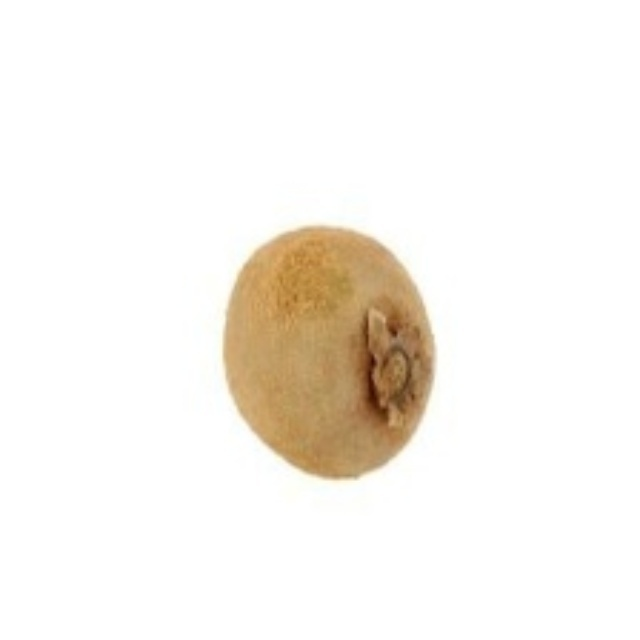kiwi: (231, 218, 434, 481)
